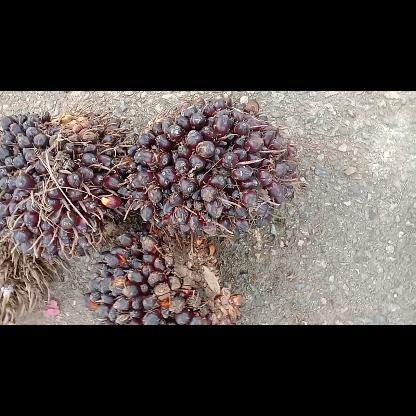TBS mentah: (130, 98, 298, 236), (0, 110, 132, 258), (84, 232, 244, 324)
